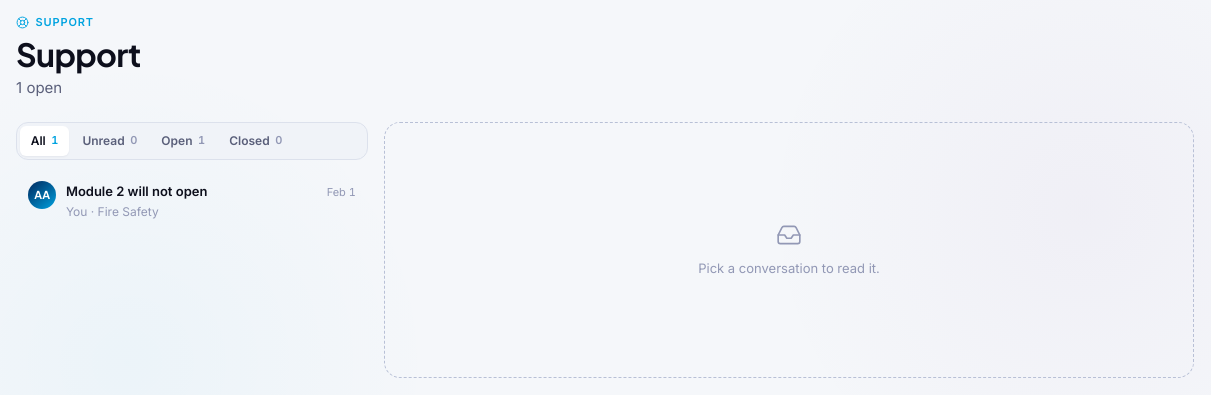
Test: filtering › says so when a filter is empty
This screenshot has width=1211, height=395.
Click the button "Closed 0": (256,141) x1=219 y1=126 x2=293 y2=156
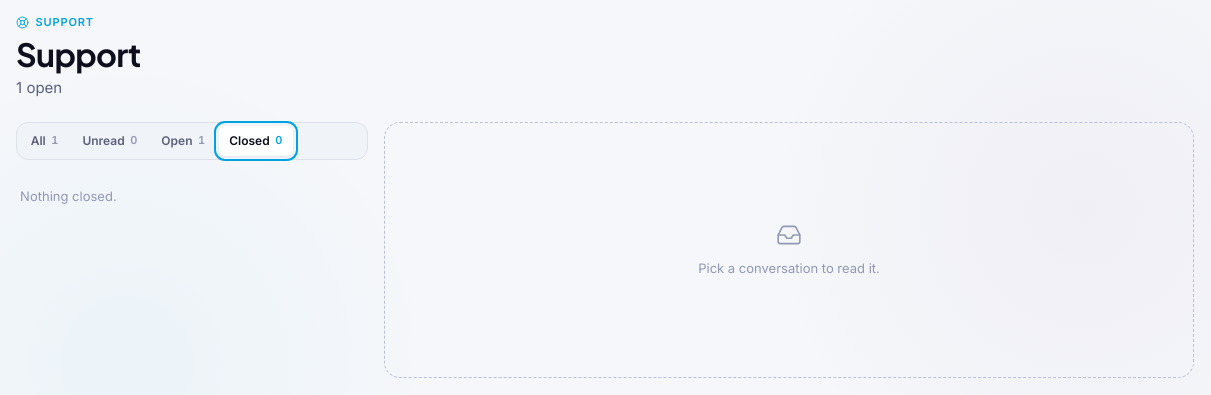
Check: the text "Nothing closed." is shown, box x1=20 y1=188 x2=117 y2=204
